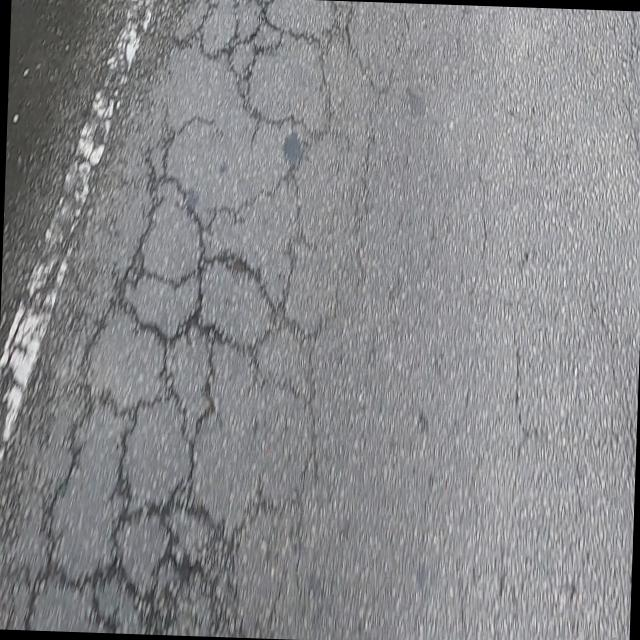Retak-Buaya: (20, 0, 354, 638)
